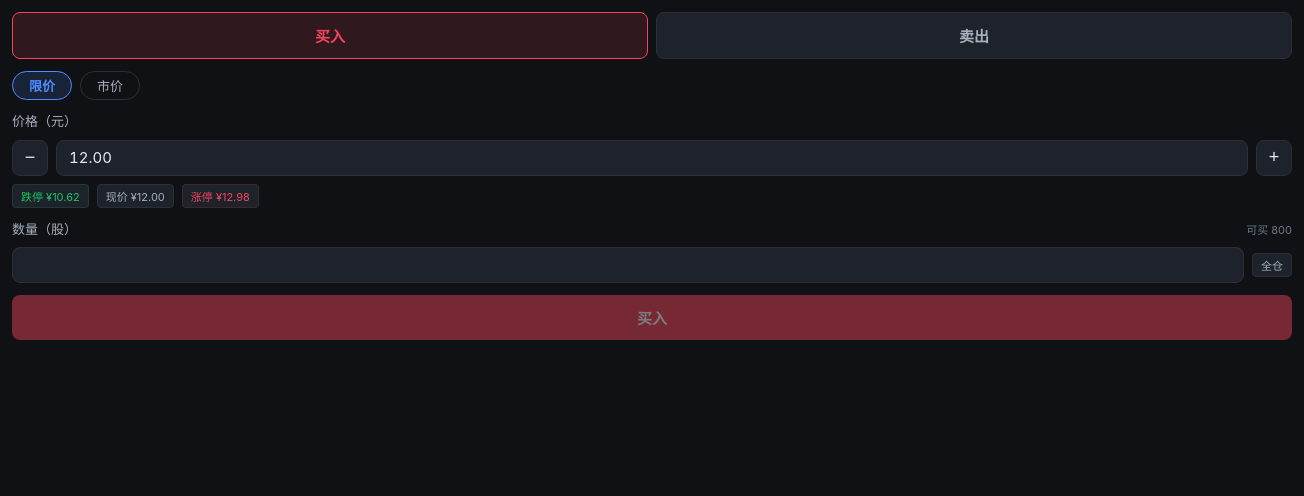
OrderPanel 数量 › 买入 100 整数倍时可下单
Type "200" into the number field with test id "qty-input". click: coordinates (628, 265)
box: [12,247,1244,283]
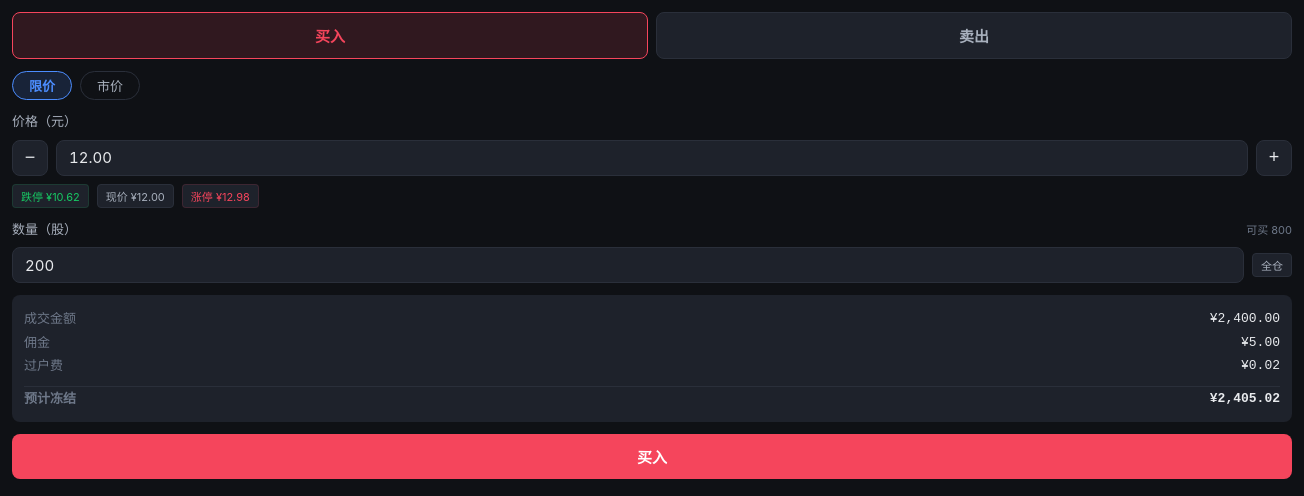
Now the button with test id "submit-order" is enabled, box [12,434,1292,479]
